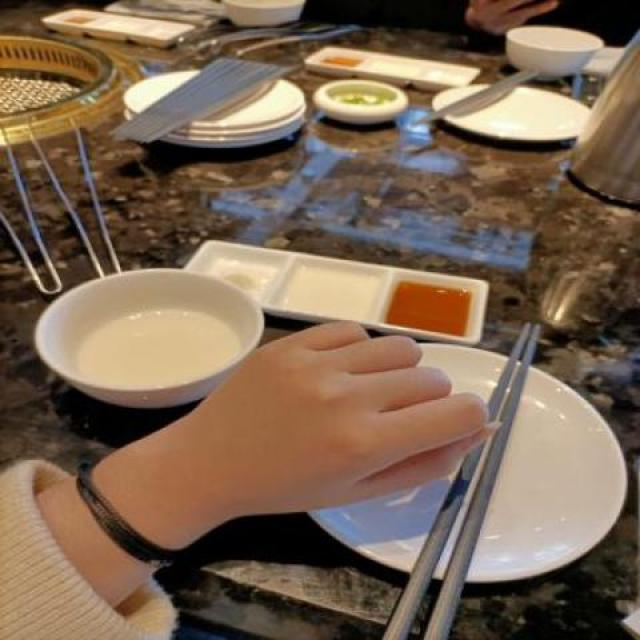Closed Hand: (195, 315, 509, 532)
